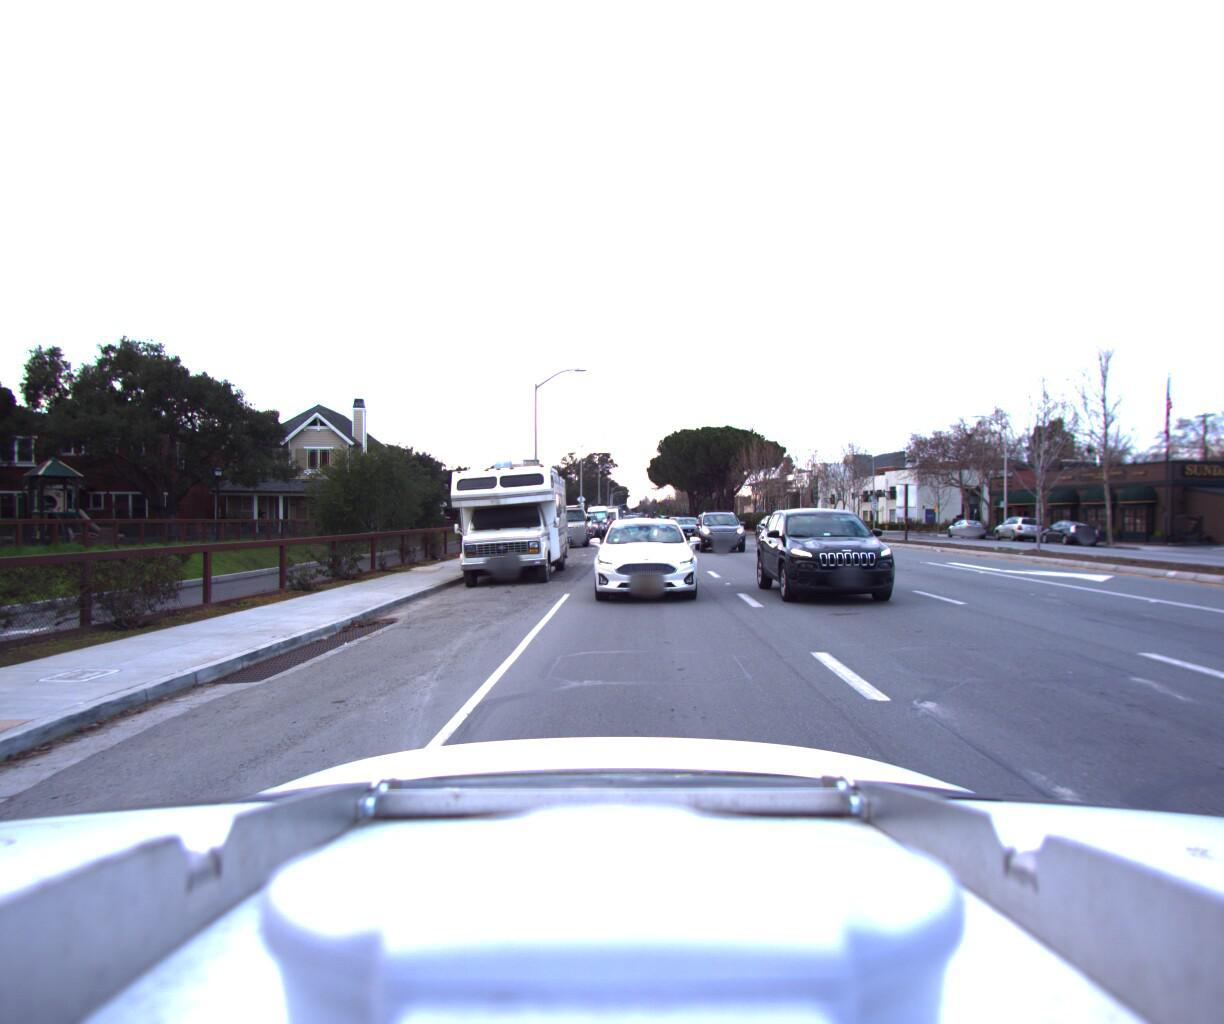car: (756, 482, 912, 606), (584, 509, 702, 609), (694, 503, 747, 551), (1032, 517, 1098, 543), (984, 513, 1044, 541), (666, 513, 703, 539), (941, 516, 984, 537)
truck: (433, 445, 572, 586), (543, 497, 587, 546), (582, 499, 608, 532)
